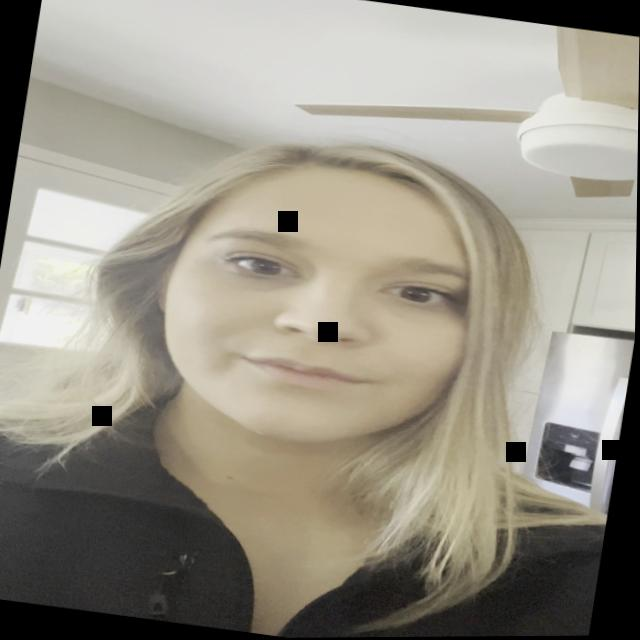NO-Mask: (119, 138, 521, 496)
